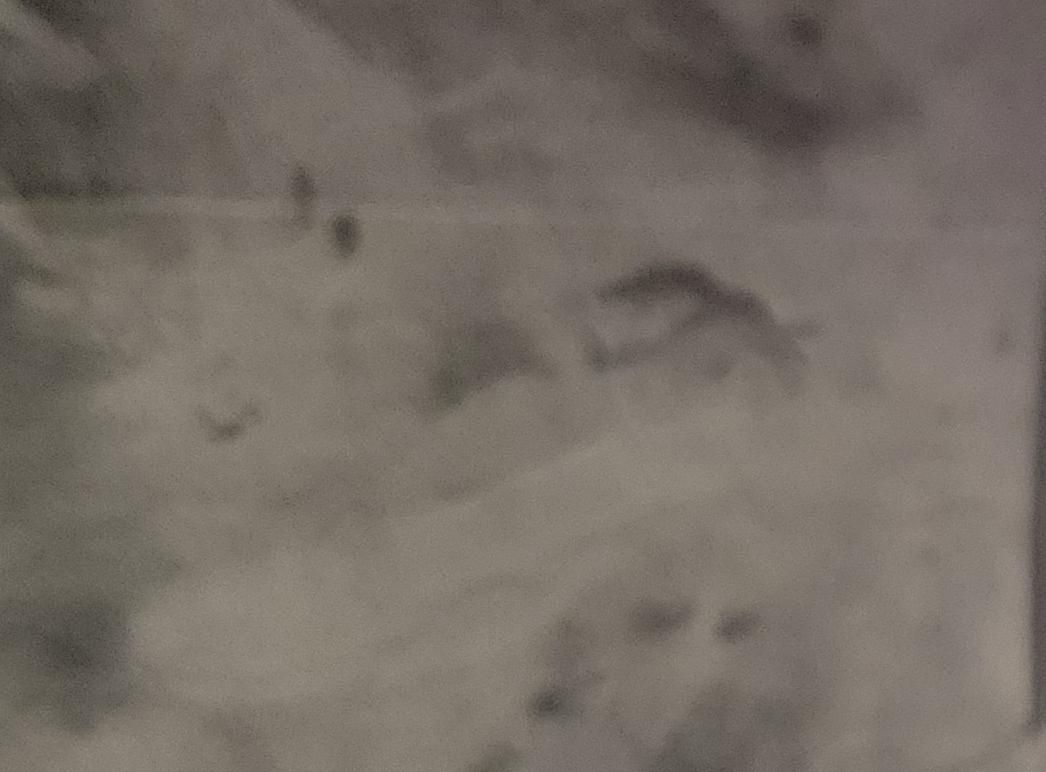Chip: (1, 390, 715, 772)
